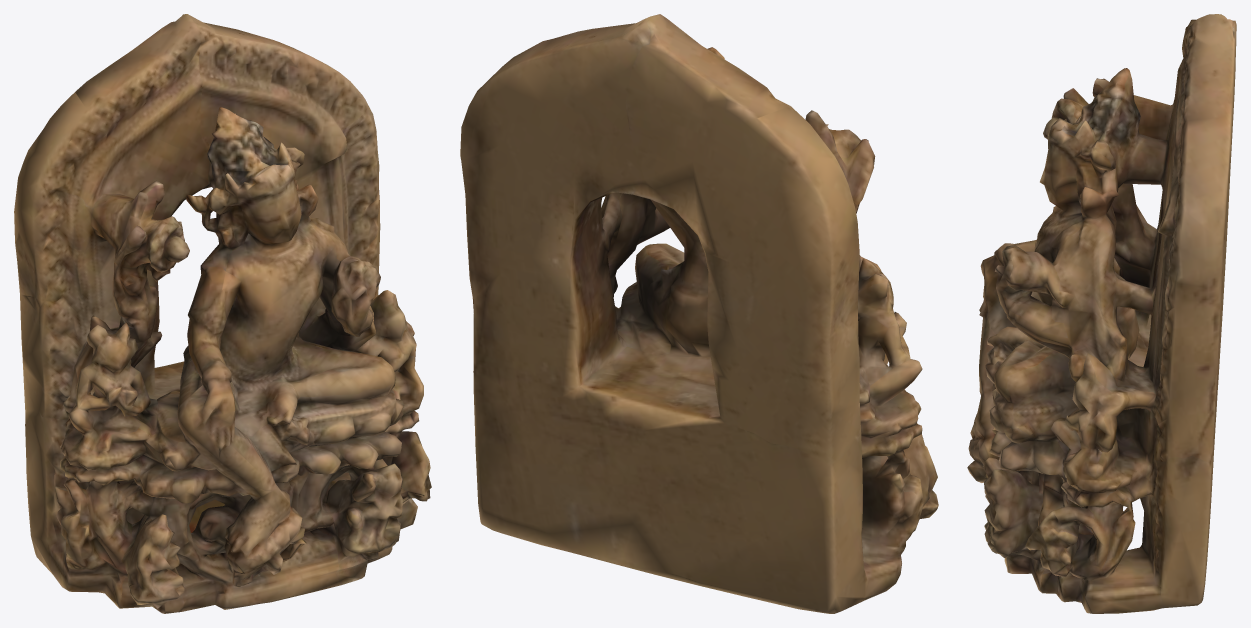
Rendered from cma-pala-kaolin-khasarpana.glb.
3 views of the same model, side by side, from view 1: azimuth 30°, elevation 25°; view 2: azimuth 150°, elevation 25°; view 3: azimuth 270°, elevation 25° (orthographic). The views are drawn at different scales.
Visible parts, largest first — view 1: 1991.155_bodhisattva_of_compassion; view 2: 1991.155_bodhisattva_of_compassion; view 3: 1991.155_bodhisattva_of_compassion.
Part boxes in pixels (left/top/right/bottom): 1991.155_bodhisattva_of_compassion: left=14, top=14, right=431, bottom=613; 1991.155_bodhisattva_of_compassion: left=460, top=14, right=938, bottom=613; 1991.155_bodhisattva_of_compassion: left=967, top=14, right=1236, bottom=613.
Size of the model in its own units: 0.0564 by 0.077 by 0.0359.
1 material, 1 textured.
